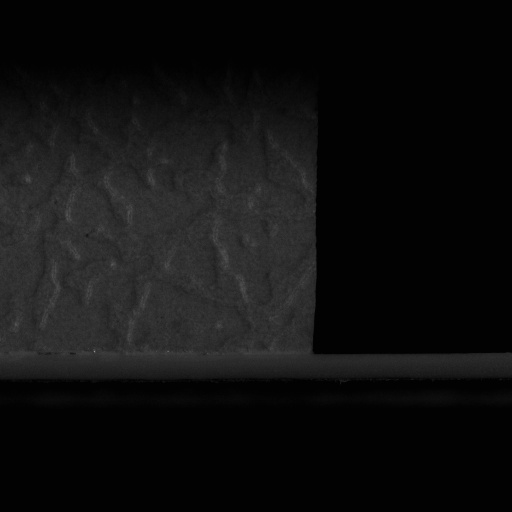changdai: (311, 352, 507, 381)
